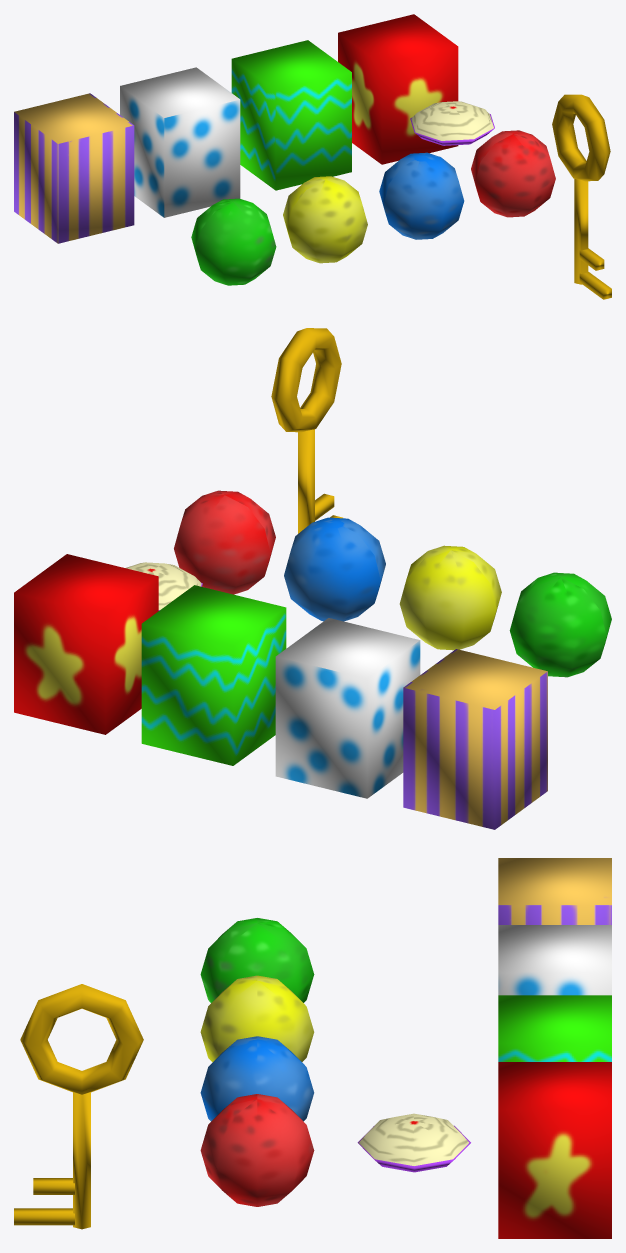
Rendered from Wacky Game Assets 1.fbx.
3 renders of one model, top to bottom at view 1: azimuth 30°, elevation 25°; view 2: azimuth 150°, elevation 25°; view 3: azimuth 270°, elevation 25°, orthographic. The views are drawn at different scales.
Visible parts, largest first — view 1: PP Box 4, PP Box 2, PP Box 3, PP Box 1, Key, Mini BB Yellow, Mini BB Red, Mini BB Blue, Mini BB Green, pie; view 2: PP Box 4, PP Box 2, PP Box 3, PP Box 1, Mini BB Green, Mini BB Yellow, Mini BB Blue, Mini BB Red, Key, pie; view 3: PP Box 1, Key, Mini BB Red, PP Box 3, PP Box 2, PP Box 4, Mini BB Green, Mini BB Blue, Mini BB Yellow, pie.
Boxes of the visible parts, <box> form: PP Box 4: <box>14,93,134,243</box>; PP Box 2: <box>231,40,351,190</box>; PP Box 3: <box>120,67,240,217</box>; PP Box 1: <box>338,14,458,164</box>; Key: <box>552,94,611,299</box>; Mini BB Yellow: <box>191,198,276,285</box>; Mini BB Red: <box>471,130,555,217</box>; Mini BB Blue: <box>379,152,464,239</box>; Mini BB Green: <box>283,176,367,263</box>; pie: <box>410,101,494,145</box>; PP Box 4: <box>403,649,547,829</box>; PP Box 2: <box>141,585,286,765</box>; PP Box 3: <box>275,618,420,798</box>; PP Box 1: <box>14,554,158,734</box>; Mini BB Green: <box>399,545,501,650</box>; Mini BB Yellow: <box>509,572,611,677</box>; Mini BB Blue: <box>284,517,385,621</box>; Mini BB Red: <box>174,490,275,594</box>; Key: <box>271,328,342,533</box>; pie: <box>125,562,202,610</box>; PP Box 1: <box>498,1062,611,1238</box>; Key: <box>14,984,143,1229</box>; Mini BB Red: <box>200,1094,314,1206</box>; PP Box 3: <box>498,925,611,995</box>; PP Box 2: <box>498,995,611,1061</box>; PP Box 4: <box>498,858,611,924</box>; Mini BB Green: <box>200,975,314,1062</box>; Mini BB Blue: <box>200,1036,314,1121</box>; Mini BB Yellow: <box>200,918,314,1002</box>; pie: <box>357,1113,470,1172</box>.
Bounding box in the file's own units: 1049 × 468 × 1052.
Materials: 10 (10 with a texture image).
